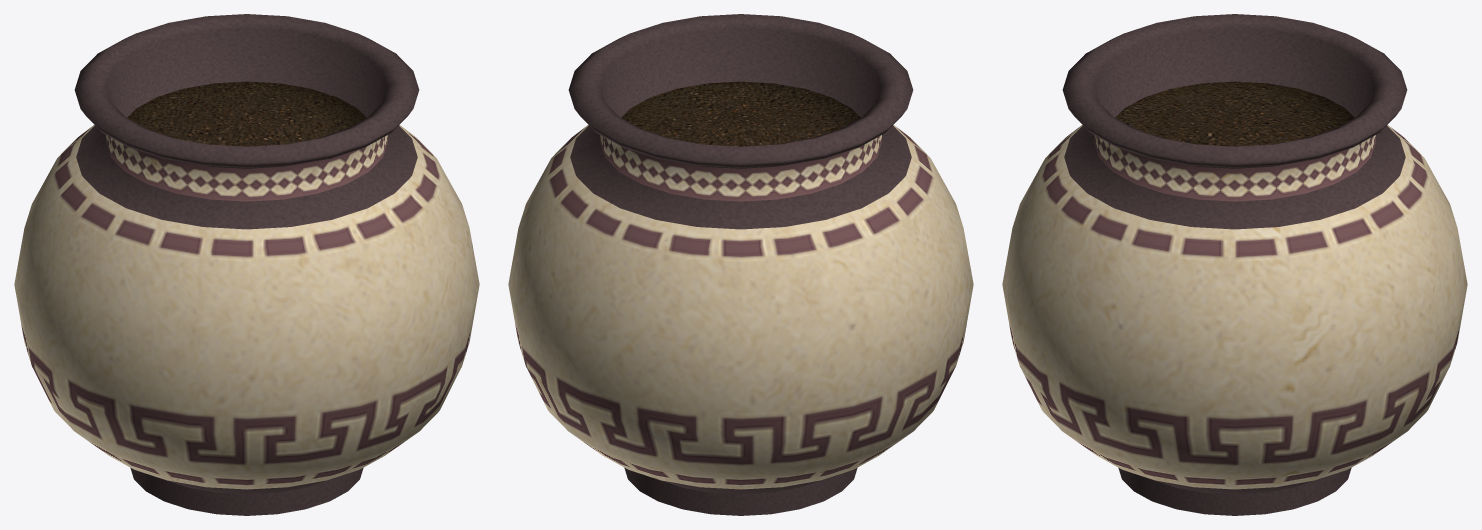
File: Furniture_flowerpot_01a_LOD0.fbx
3 renders of one model, left to right at view 1: azimuth 30°, elevation 25°; view 2: azimuth 150°, elevation 25°; view 3: azimuth 270°, elevation 25°, orthographic.
Visible parts, largest first — view 1: Furniture_foliagepot_01a_LOD0; view 2: Furniture_foliagepot_01a_LOD0; view 3: Furniture_foliagepot_01a_LOD0.
Part boxes in pixels (x1,y1,x2,y2): Furniture_foliagepot_01a_LOD0: [14, 14, 479, 515]; Furniture_foliagepot_01a_LOD0: [508, 14, 973, 515]; Furniture_foliagepot_01a_LOD0: [1002, 14, 1467, 515].
Bounding box in the file's own units: 31.02 × 28.41 × 31.02.
